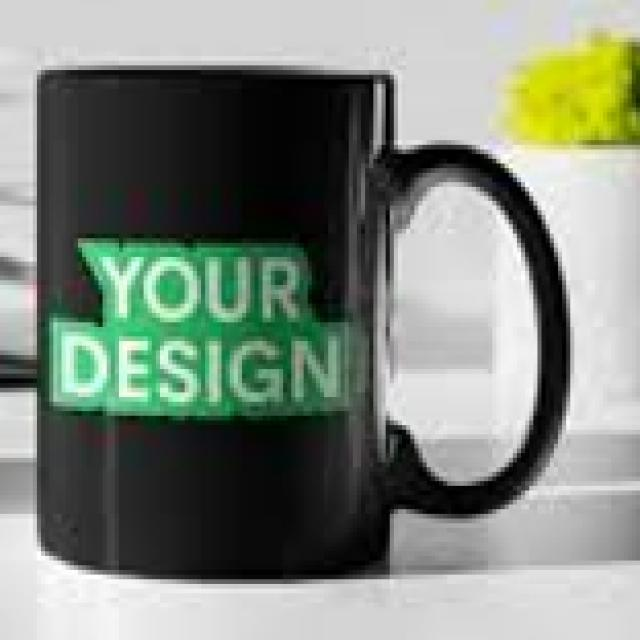taza: (34, 63, 571, 584)
